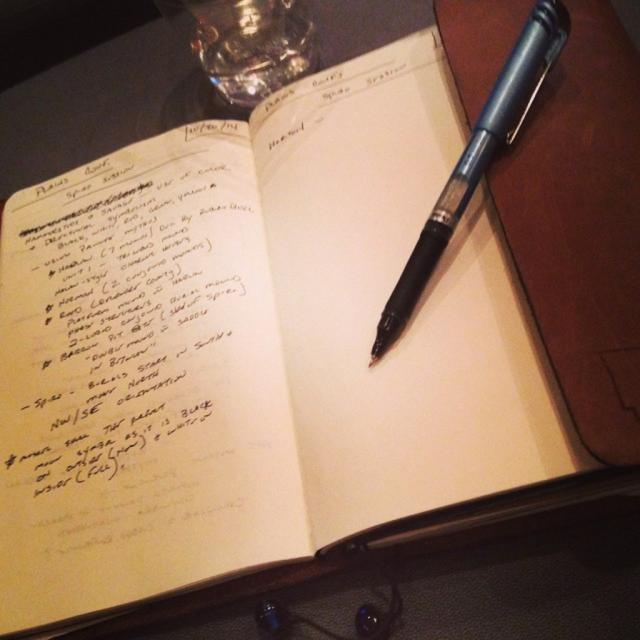pen: (368, 0, 569, 368)
